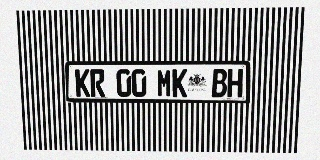0: (116, 69, 131, 97), (131, 69, 146, 97)
B: (212, 69, 227, 97)
H: (227, 69, 243, 97)
K: (75, 69, 90, 97), (172, 69, 187, 97)
M: (157, 69, 172, 97)
R: (90, 69, 105, 97)
